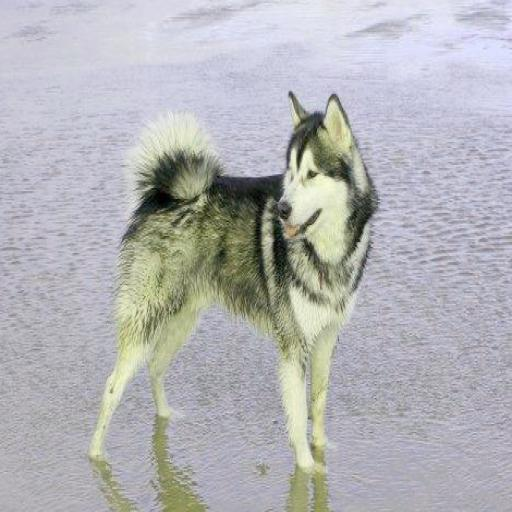dog_face: (277, 87, 356, 246)
